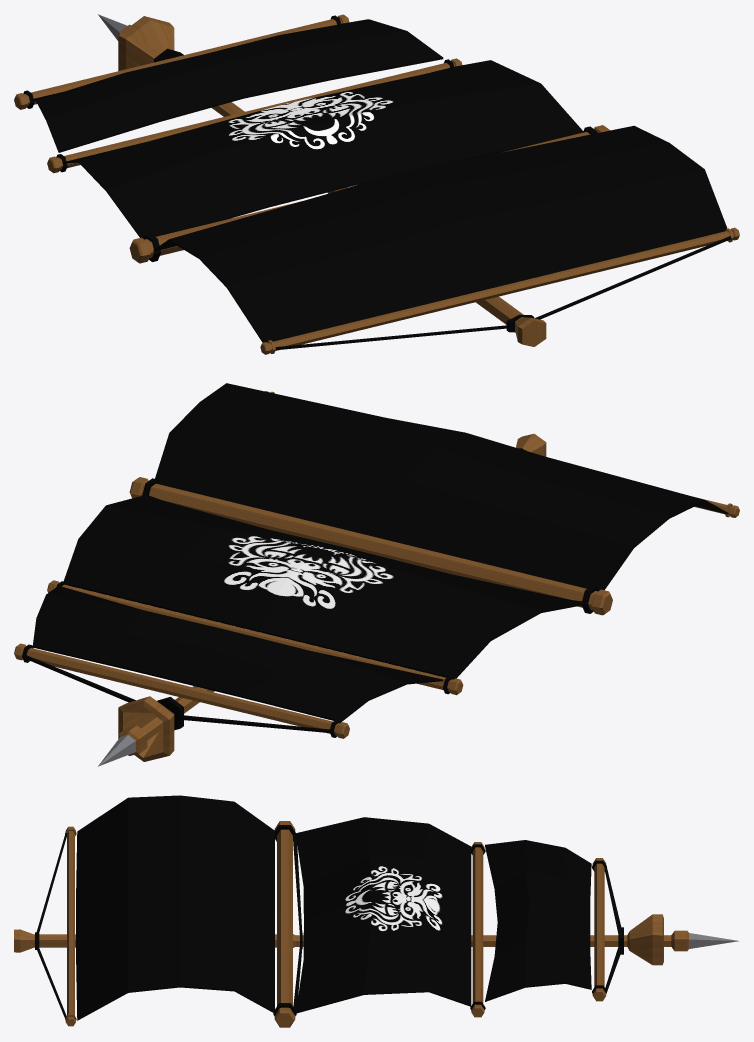
The model's file is sail_a_19.fbx.
3 views of the same model, one above another, from view 1: azimuth 30°, elevation 25°; view 2: azimuth 150°, elevation 25°; view 3: azimuth 270°, elevation 25° (orthographic). The views are drawn at different scales.
Visible parts, largest first — view 1: Cube.074; view 2: Cube.074; view 3: Cube.074.
Part boxes in pixels (x1=…): Cube.074: x1=14, y1=14, x2=739, y2=354; Cube.074: x1=14, y1=383, x2=739, y2=766; Cube.074: x1=14, y1=795, x2=738, y2=1027.
Bounding box in the file's own units: 199 × 41.04 × 315.
